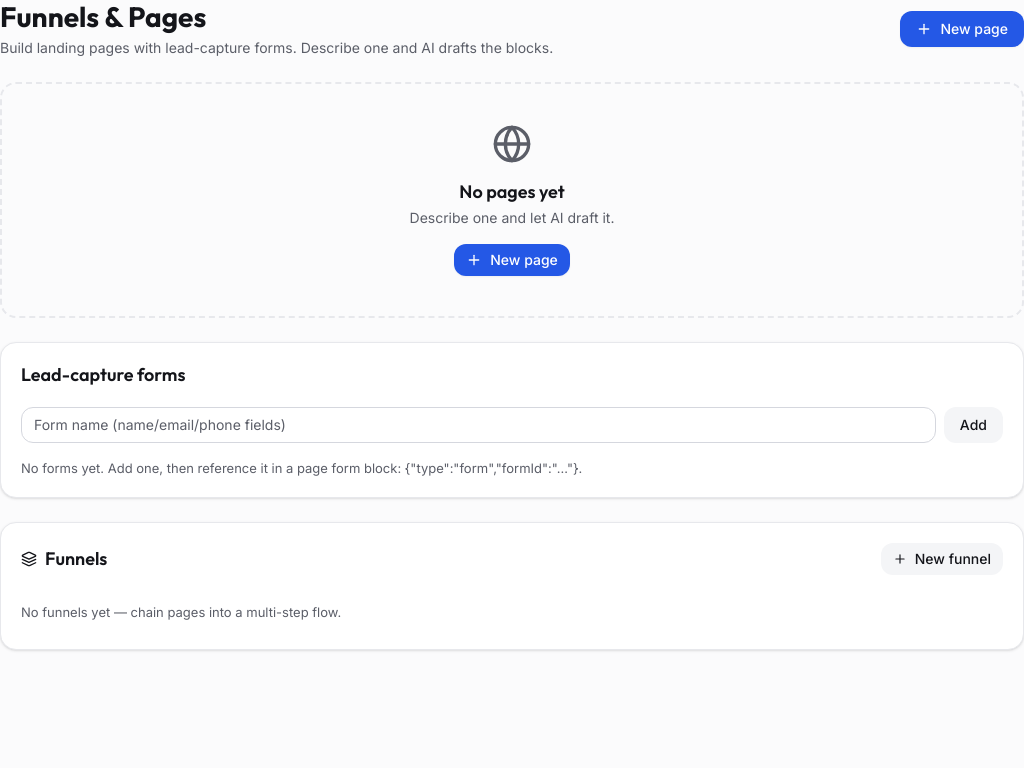
SitesPage › shows validation error on empty form submit
This screenshot has width=1024, height=768.
What coordinates should you click on to do the following:
click the button "New page" in the row of "Funnels & Pages"
I would click on:
 (962, 29)
Its box is [900, 11, 1023, 47].
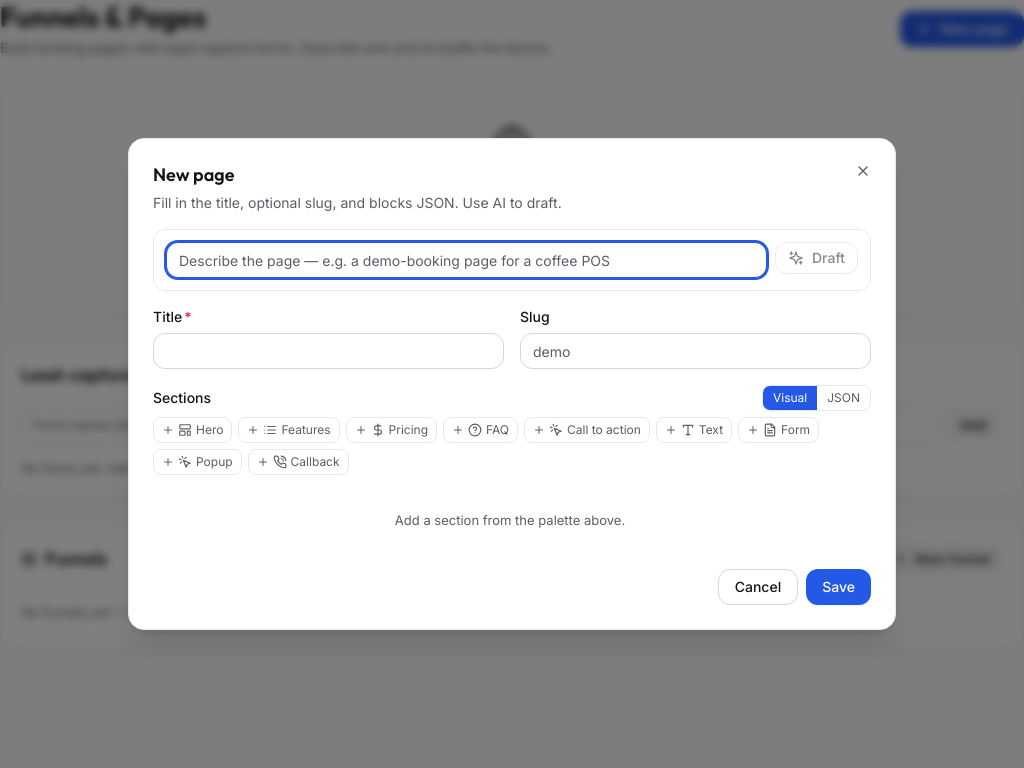
click Save without filling title
What coordinates should you click on to do the following:
click the button "Save"
I would click on:
 (839, 587)
Its box is [806, 569, 871, 605].
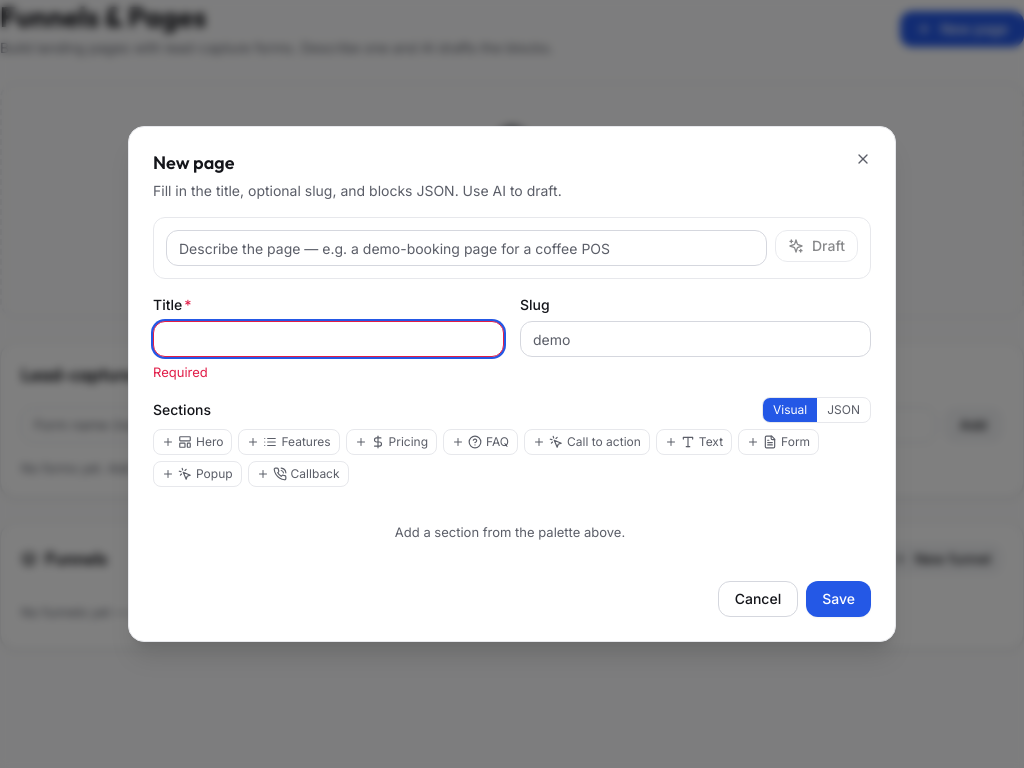
Expected: the message "Required" is shown, [153, 364, 208, 380]
